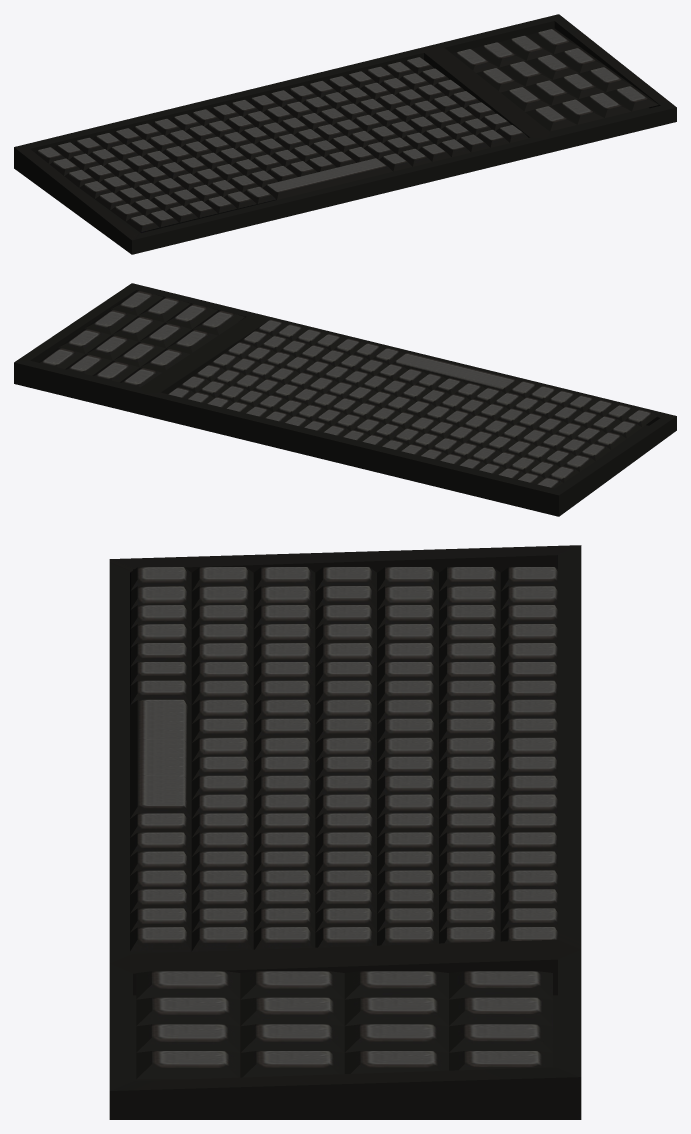
File: Keyboard.FBX
The picture shows the model from 3 angles, top to bottom: view 1: azimuth 30°, elevation 25°; view 2: azimuth 150°, elevation 25°; view 3: azimuth 270°, elevation 25°; orthographic projection. The views are drawn at different scales.
Visible parts, largest first — view 1: Keyboard; view 2: Keyboard; view 3: Keyboard.
Part boxes in pixels (x1,y1,x2,y2): Keyboard: (14,14,676,254); Keyboard: (14,283,676,516); Keyboard: (109,545,581,1119).
Size of the model in its own units: 31.5 by 1.18 by 11.81.
Materials: 1 (1 with a texture image).
